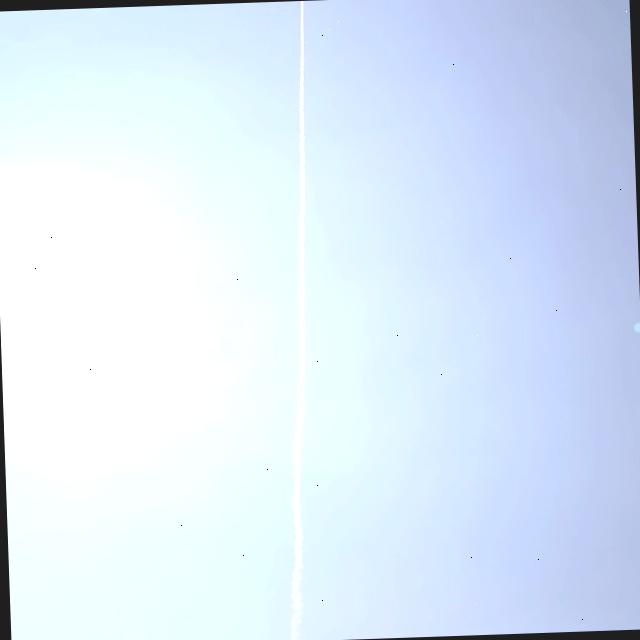smoke_trail_with_rocket: (290, 88, 305, 640)
